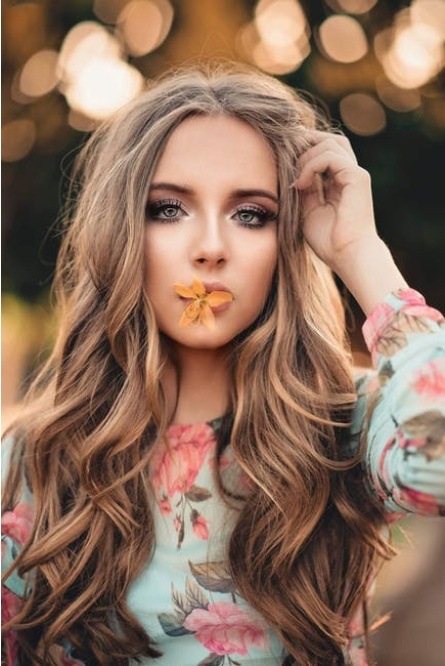face: (142, 120, 287, 343)
